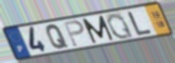4: (28, 25, 49, 54)
L: (126, 10, 154, 36)
M: (80, 14, 115, 44)
P: (62, 19, 87, 48)
Q: (106, 12, 136, 40), (45, 23, 70, 50)
